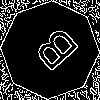B: (25, 25, 81, 80)
